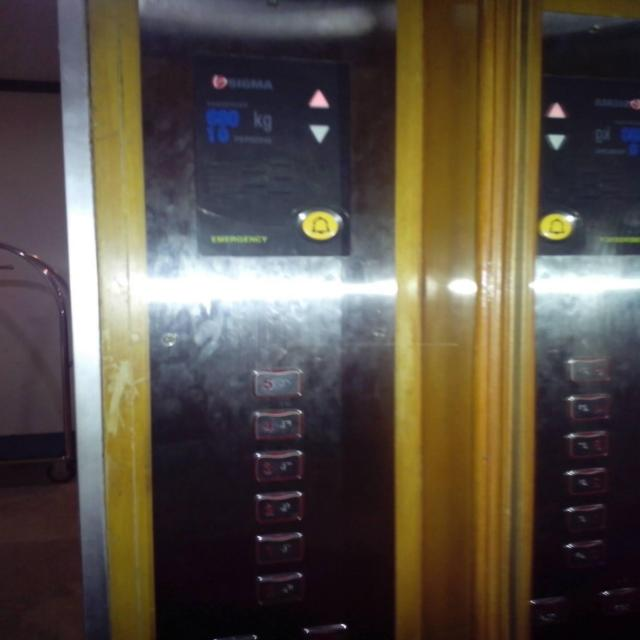3: (250, 450, 304, 482)
4: (249, 408, 304, 440)
5: (251, 368, 305, 401)
alarm: (294, 205, 344, 243), (538, 212, 574, 241)
blur: (252, 530, 306, 566), (253, 572, 304, 606), (251, 491, 304, 523)
down: (545, 132, 567, 150)
unknown: (565, 356, 613, 386), (561, 466, 609, 496), (564, 430, 611, 460), (560, 502, 607, 532), (565, 392, 612, 421), (560, 539, 607, 568), (526, 596, 573, 624), (596, 588, 640, 616)
up: (544, 100, 567, 120)
